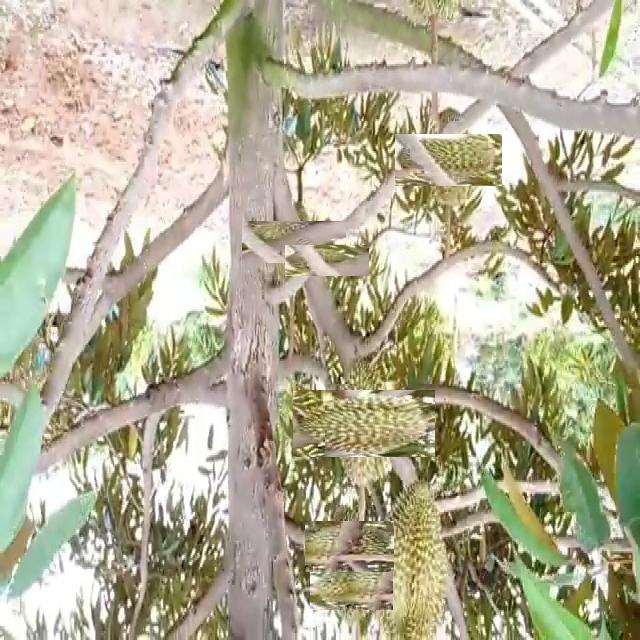durian: (371, 472, 454, 640), (311, 371, 416, 476), (408, 120, 488, 200), (258, 206, 331, 278), (314, 511, 385, 582), (320, 555, 384, 620), (298, 231, 356, 290)
